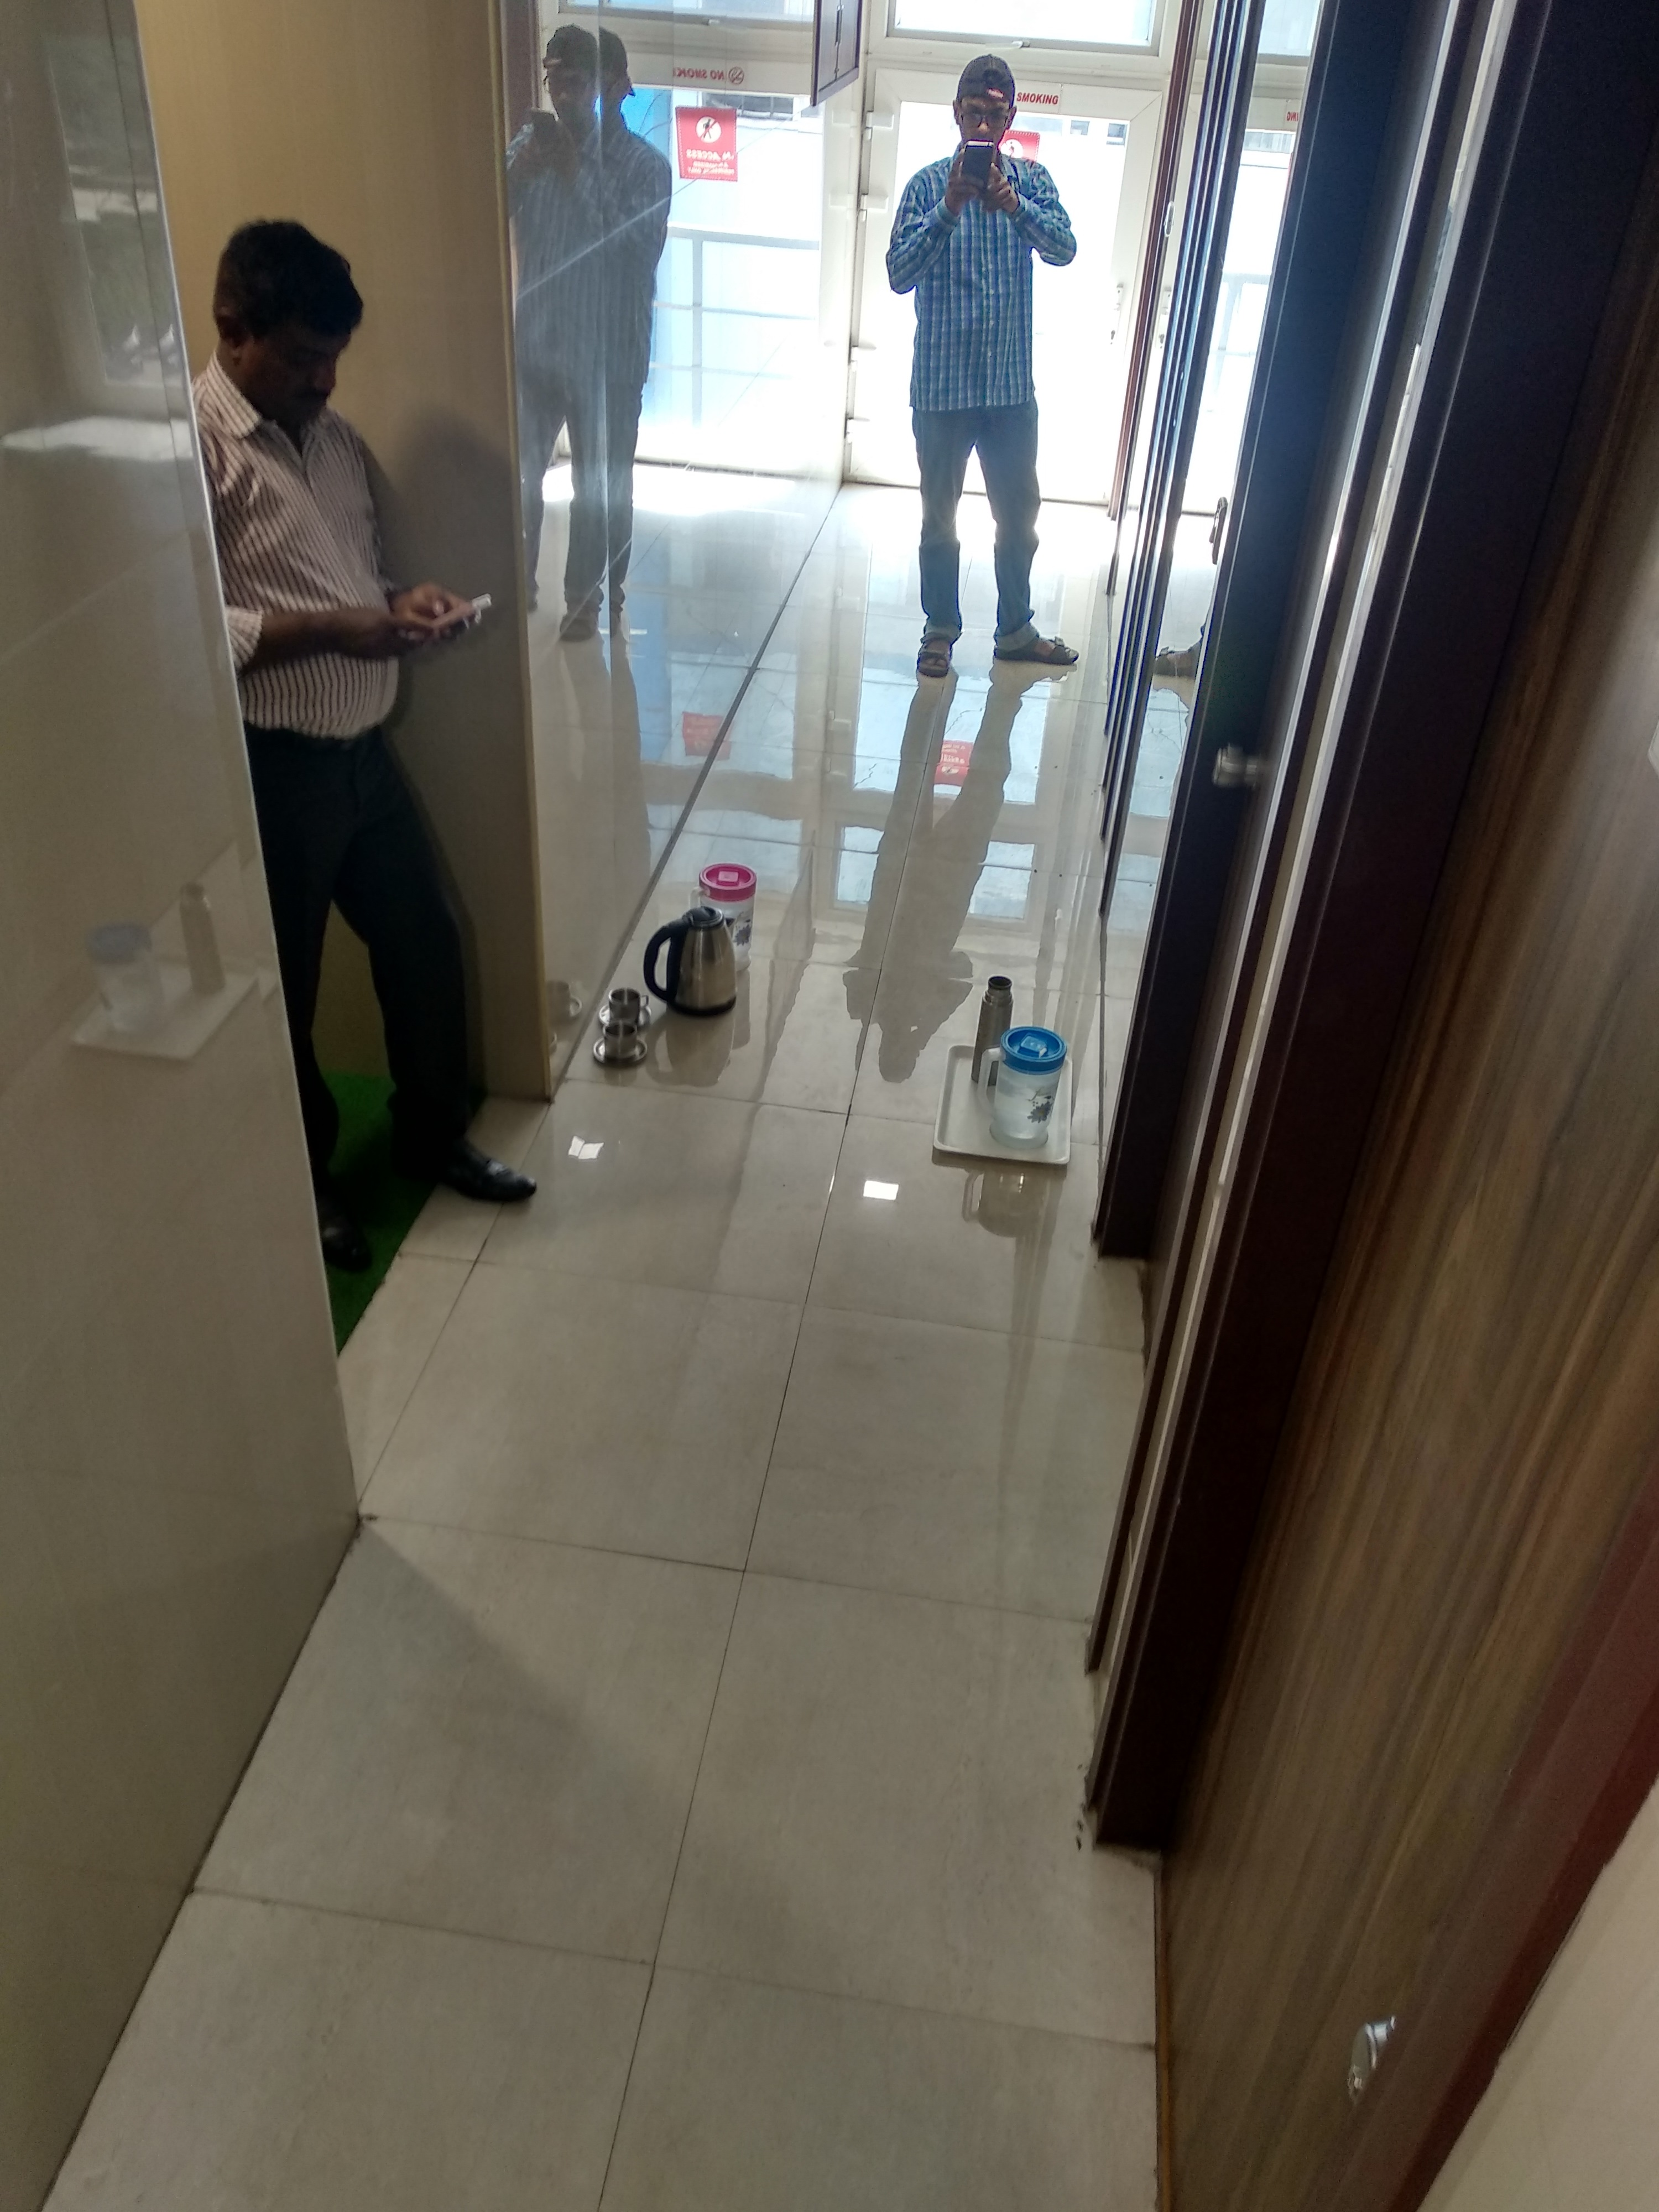CUP: (596, 1017, 650, 1068), (601, 977, 657, 1019)
FLASK: (971, 965, 1014, 1083)
JUG: (641, 892, 746, 1024), (978, 1017, 1066, 1155), (692, 857, 763, 909)
